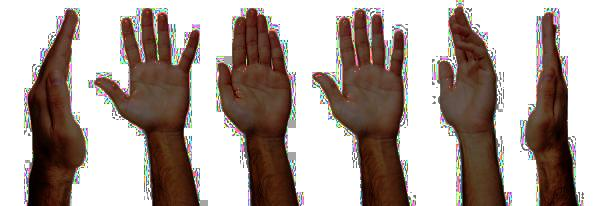Paper: (92, 9, 200, 136), (310, 7, 407, 139), (214, 6, 293, 135)
